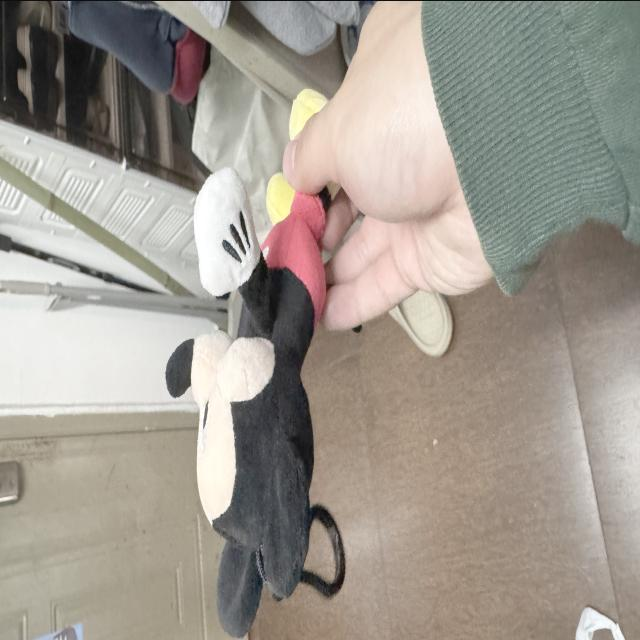mickey: (167, 168, 344, 636)
